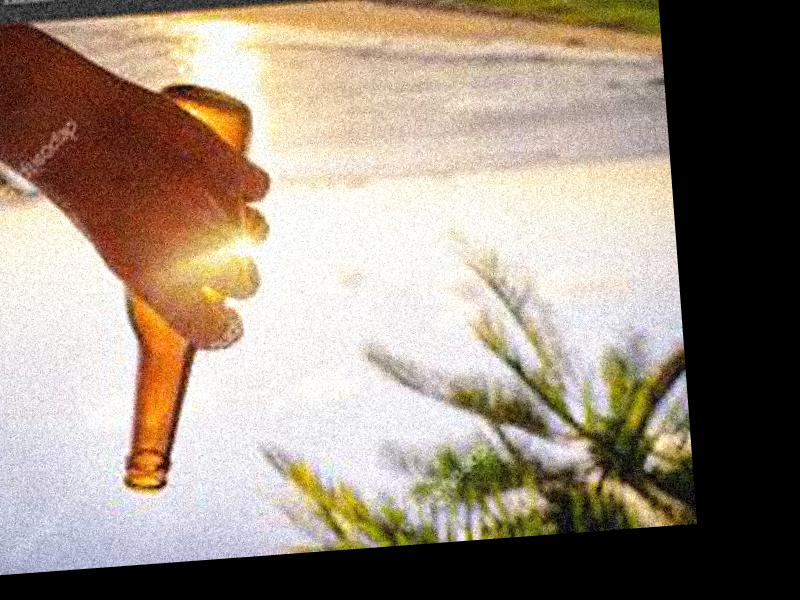Beer: (90, 77, 275, 493)
